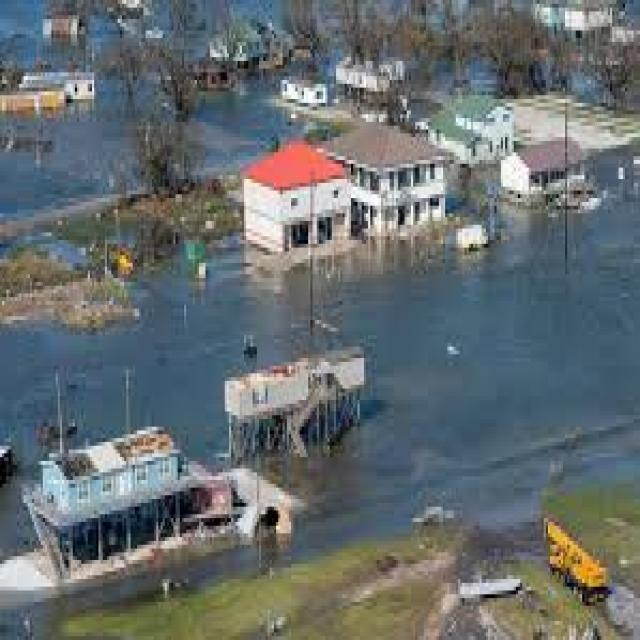Hurricane: (67, 133, 640, 459)
